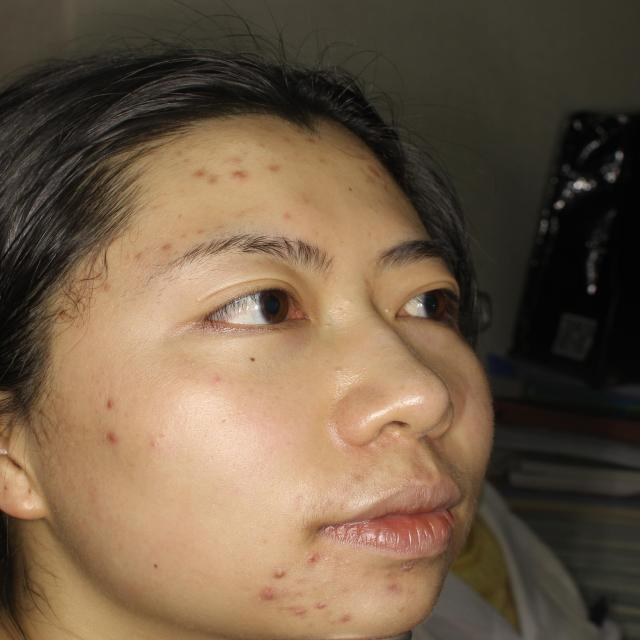acne: (380, 571, 418, 600), (269, 551, 299, 583), (254, 584, 283, 611), (226, 163, 257, 188), (358, 156, 382, 188), (329, 604, 354, 627), (90, 428, 125, 444), (185, 158, 212, 177), (157, 235, 184, 254), (95, 396, 120, 413), (292, 594, 305, 617), (264, 158, 279, 177)
